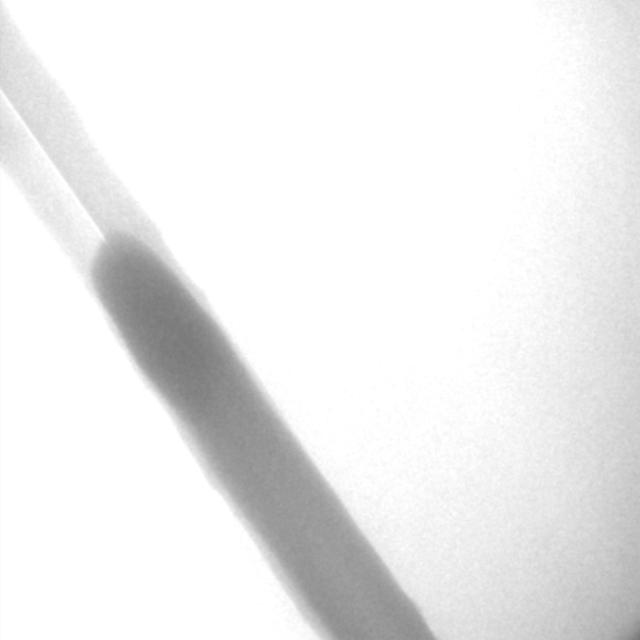broken arc: (1, 90, 106, 243)
